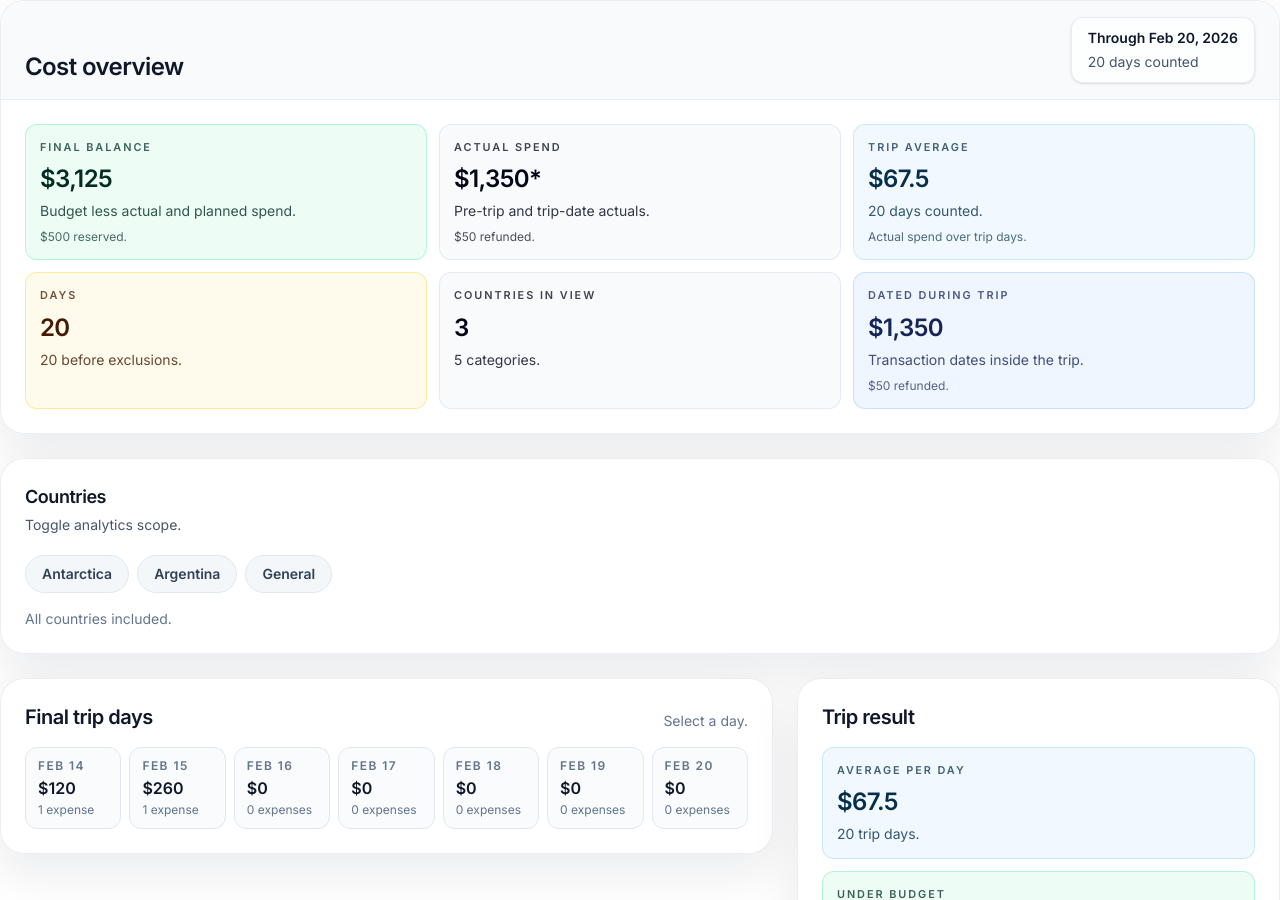
Scenario: CostSummaryDashboard › renders overview cards and updates included day counts when a country is excluded
Expected: the heading "Cost overview" is shown, [25, 51, 184, 83]
Expected: the text "Final balance" is shown, [40, 140, 152, 154]
Click the button with aria-label "exclude antarctica from analytics": (77, 574) [25, 555, 129, 593]
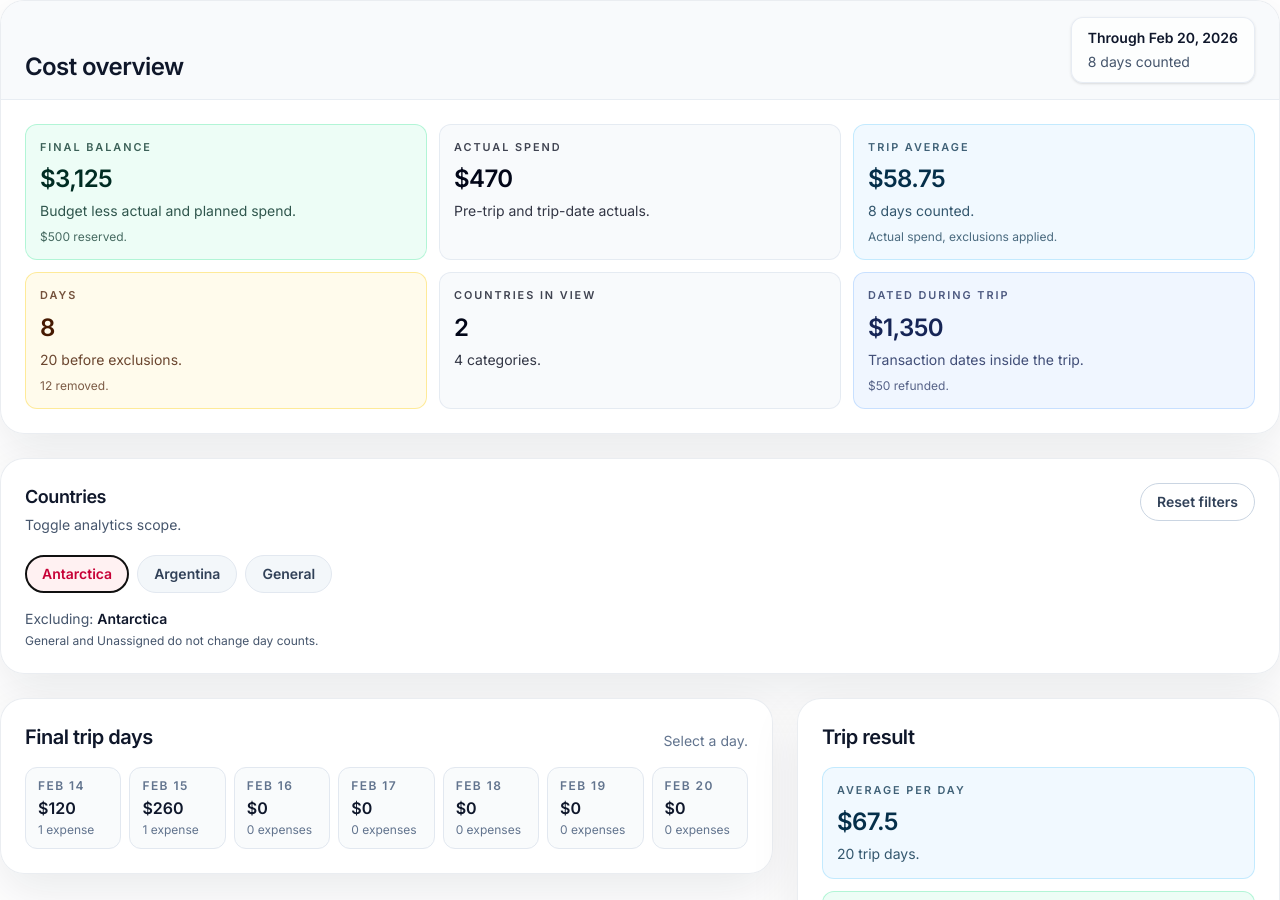
Expected: the text "8 days counted." is shown, [868, 202, 974, 219]
